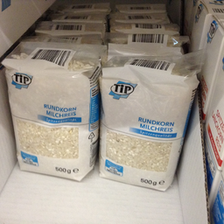rice: (98, 53, 203, 192), (2, 47, 101, 182)
